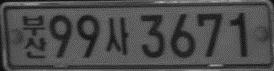1: (227, 12, 252, 56)
3: (140, 13, 164, 58)
6: (169, 12, 195, 58)
7: (196, 12, 223, 57)
9: (76, 13, 99, 59), (48, 14, 72, 57)
부산_V: (22, 13, 46, 59)
사: (105, 17, 129, 55)
